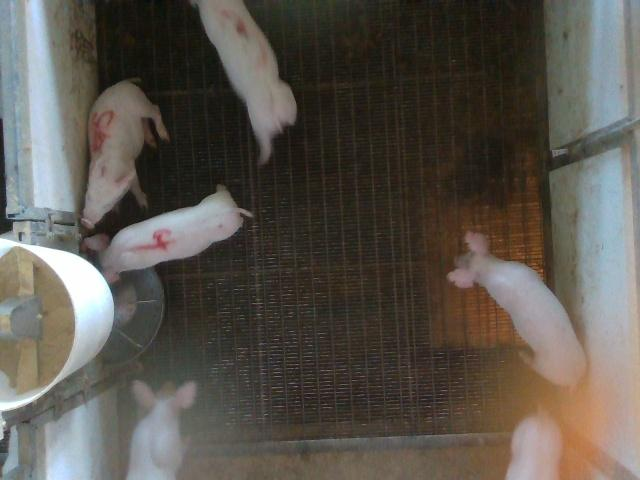pig-3: (192, 0, 296, 164)
pig-4: (85, 185, 251, 282)
pig-5: (81, 79, 169, 229)
